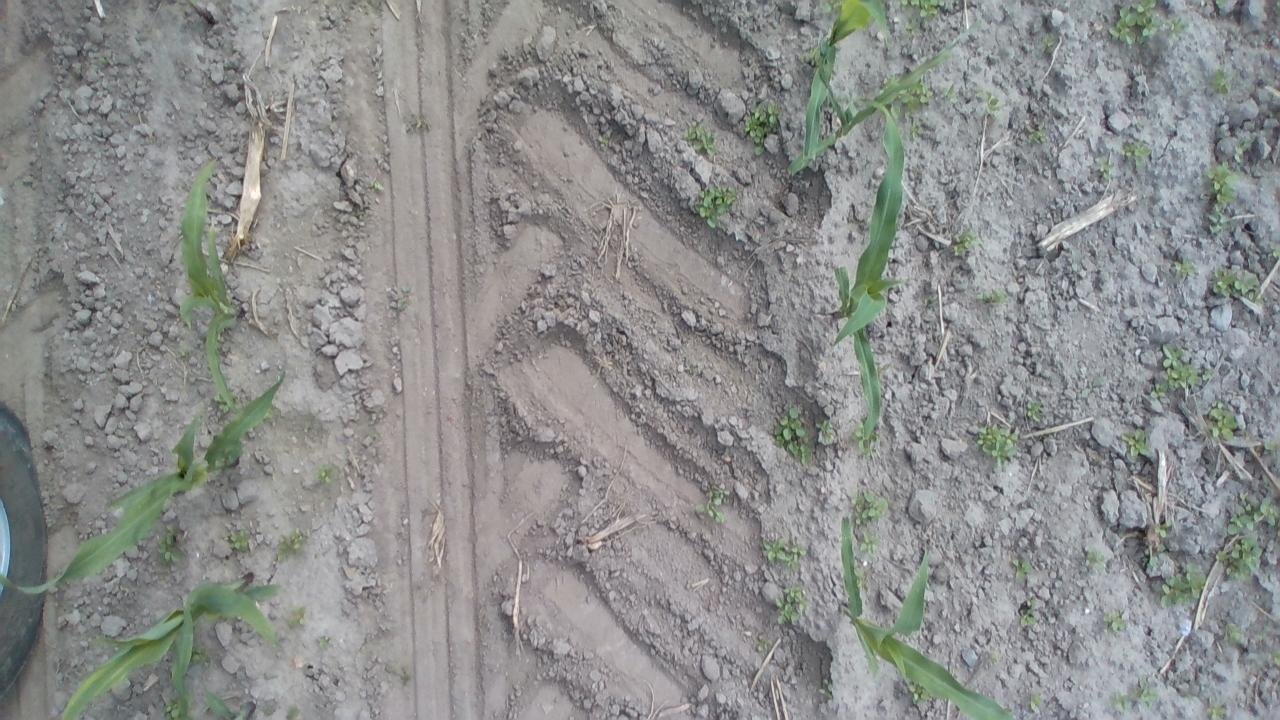Maize: (0, 372, 285, 590), (840, 515, 1020, 720), (64, 576, 282, 720), (787, 24, 971, 178), (844, 95, 908, 439), (175, 153, 240, 415), (804, 0, 892, 162), (202, 684, 254, 720)
Weeds: (1216, 490, 1280, 582), (1149, 341, 1217, 401), (1158, 558, 1208, 608), (739, 98, 782, 156), (1204, 162, 1238, 235), (1107, 0, 1159, 47), (689, 181, 737, 231), (772, 406, 812, 465), (1212, 267, 1264, 306), (888, 78, 935, 121), (973, 424, 1017, 468), (762, 534, 808, 568), (693, 483, 728, 524), (774, 584, 808, 624), (156, 523, 187, 566), (1208, 403, 1240, 443), (686, 117, 718, 157), (852, 492, 888, 526), (276, 526, 307, 564), (854, 417, 881, 454), (897, 0, 945, 18), (1119, 142, 1153, 167), (974, 86, 1003, 115), (1122, 428, 1150, 458), (1131, 679, 1158, 707), (1210, 68, 1234, 96), (1102, 608, 1127, 634), (952, 229, 976, 256), (224, 528, 249, 553), (1146, 544, 1172, 568), (1172, 255, 1196, 279), (214, 390, 238, 414), (974, 288, 1009, 304), (1080, 376, 1104, 399), (312, 464, 338, 485), (816, 420, 836, 446), (1038, 30, 1058, 56), (1019, 598, 1038, 625), (909, 682, 932, 704), (859, 532, 881, 555), (164, 691, 180, 720), (1010, 557, 1032, 578), (287, 606, 308, 627), (188, 648, 212, 666), (1026, 399, 1044, 422), (1168, 17, 1186, 38), (1222, 622, 1242, 640), (1030, 688, 1044, 712), (817, 678, 834, 697), (1110, 693, 1126, 713), (1084, 552, 1104, 568), (1207, 703, 1225, 720), (908, 119, 924, 138), (1027, 130, 1047, 145), (1152, 520, 1173, 534), (820, 0, 842, 13), (1100, 156, 1110, 184), (853, 564, 864, 587), (902, 20, 919, 34), (174, 347, 192, 360), (943, 84, 957, 100), (370, 178, 385, 192), (598, 134, 612, 148), (756, 638, 770, 652), (1271, 648, 1280, 668), (320, 636, 334, 648), (1232, 143, 1246, 155), (262, 406, 273, 420), (262, 703, 271, 720), (1272, 245, 1280, 260), (990, 654, 1000, 664), (99, 57, 110, 64), (1216, 0, 1223, 5)
